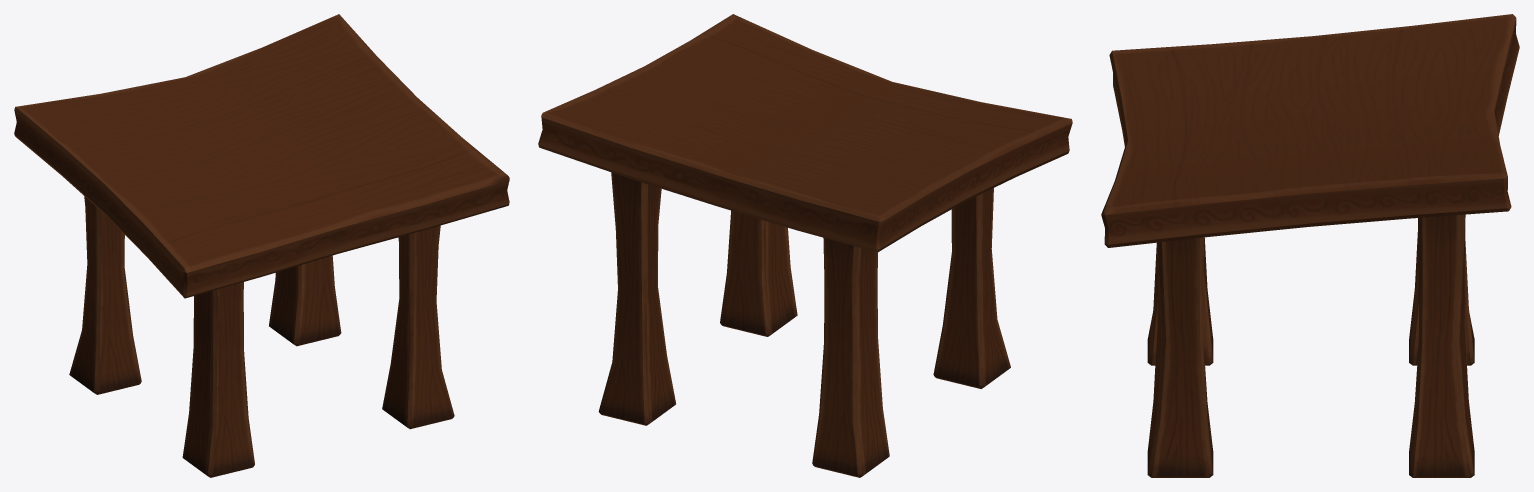
Rendered from SmallTable.fbx.
3 renders of one model, left to right at view 1: azimuth 30°, elevation 25°; view 2: azimuth 150°, elevation 25°; view 3: azimuth 270°, elevation 25°, orthographic. The views are drawn at different scales.
Visible parts, largest first — view 1: WonkyTable; view 2: WonkyTable; view 3: WonkyTable.
Boxes of the visible parts, x1,y1,x2,y2 form: WonkyTable: (14,14,509,477); WonkyTable: (538,14,1072,477); WonkyTable: (1101,14,1519,477).
Bounding box in the file's own units: 2.89 × 2.38 × 2.77.
